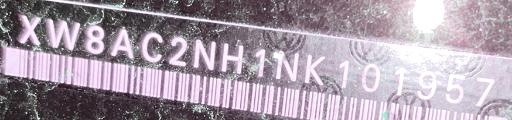letter: (353, 60, 389, 95), (44, 17, 78, 50), (440, 69, 468, 108), (270, 47, 300, 83), (190, 34, 216, 72), (107, 26, 135, 60), (136, 29, 164, 63), (218, 39, 244, 75), (301, 51, 327, 87), (470, 71, 494, 108), (164, 33, 190, 67), (17, 14, 41, 47), (82, 24, 106, 57), (388, 65, 410, 100), (414, 68, 436, 103), (247, 44, 269, 76), (330, 59, 352, 91)
